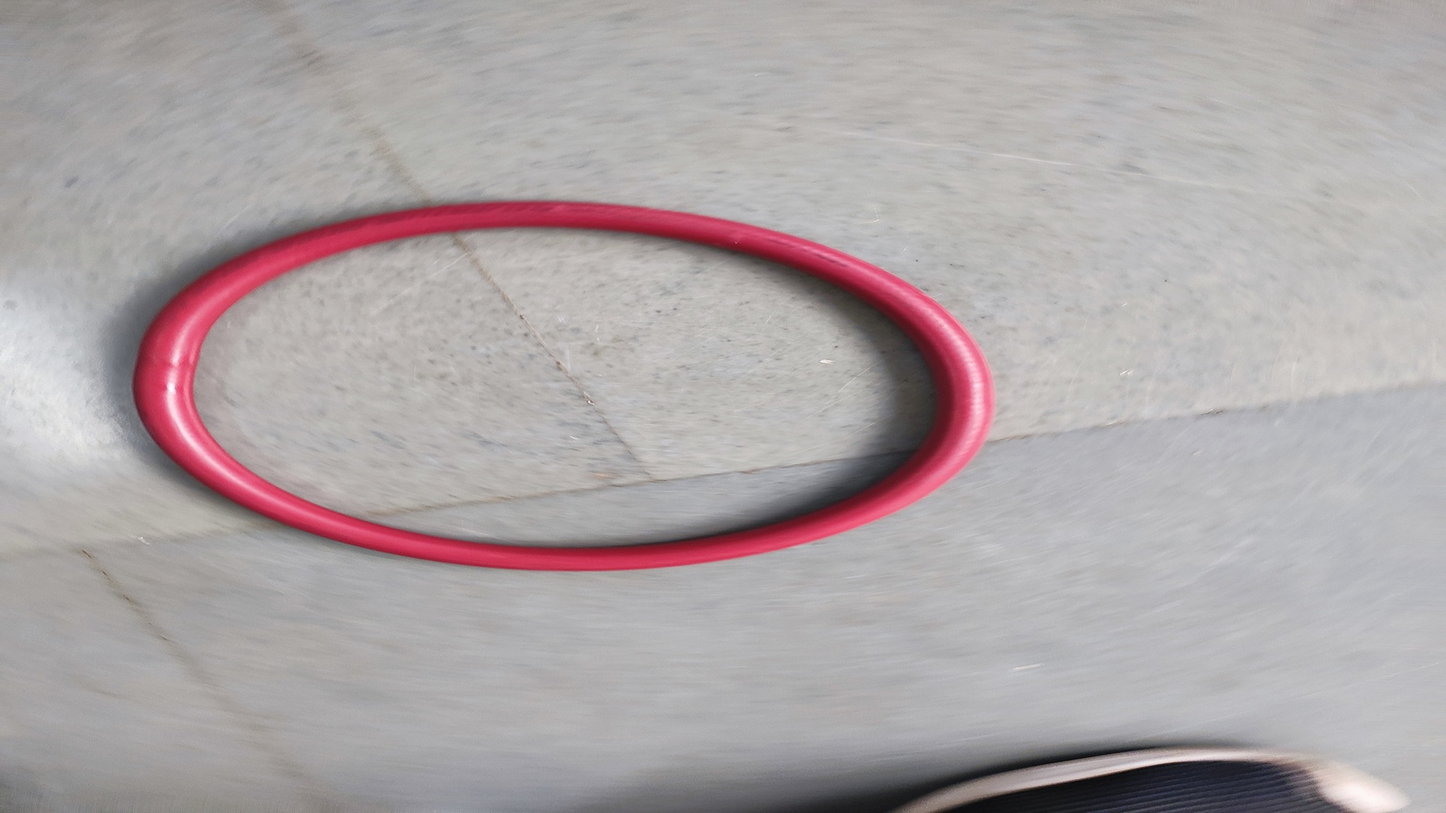Red ring: (130, 201, 999, 572)
